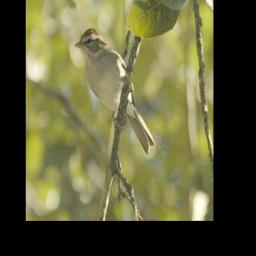Sparrow: (73, 25, 155, 155)
